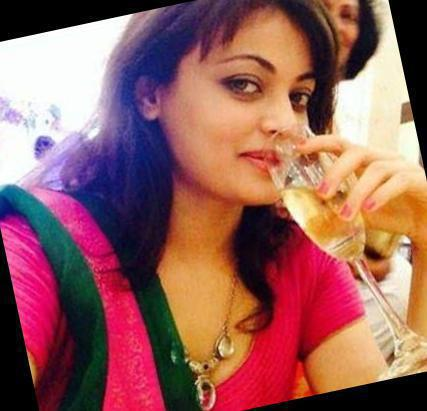Drunk: (189, 15, 312, 204)
